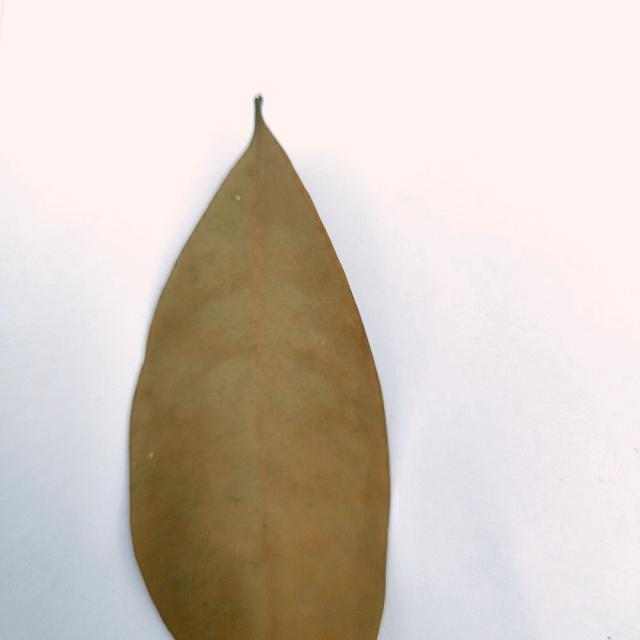Dry_Leaf-Lychee: (127, 95, 392, 639)
